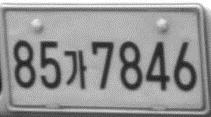4: (145, 40, 170, 91)
5: (39, 40, 61, 88)
6: (173, 41, 197, 91)
7: (91, 40, 114, 89)
8: (118, 40, 143, 90), (13, 39, 36, 88)
가: (63, 49, 88, 89)
